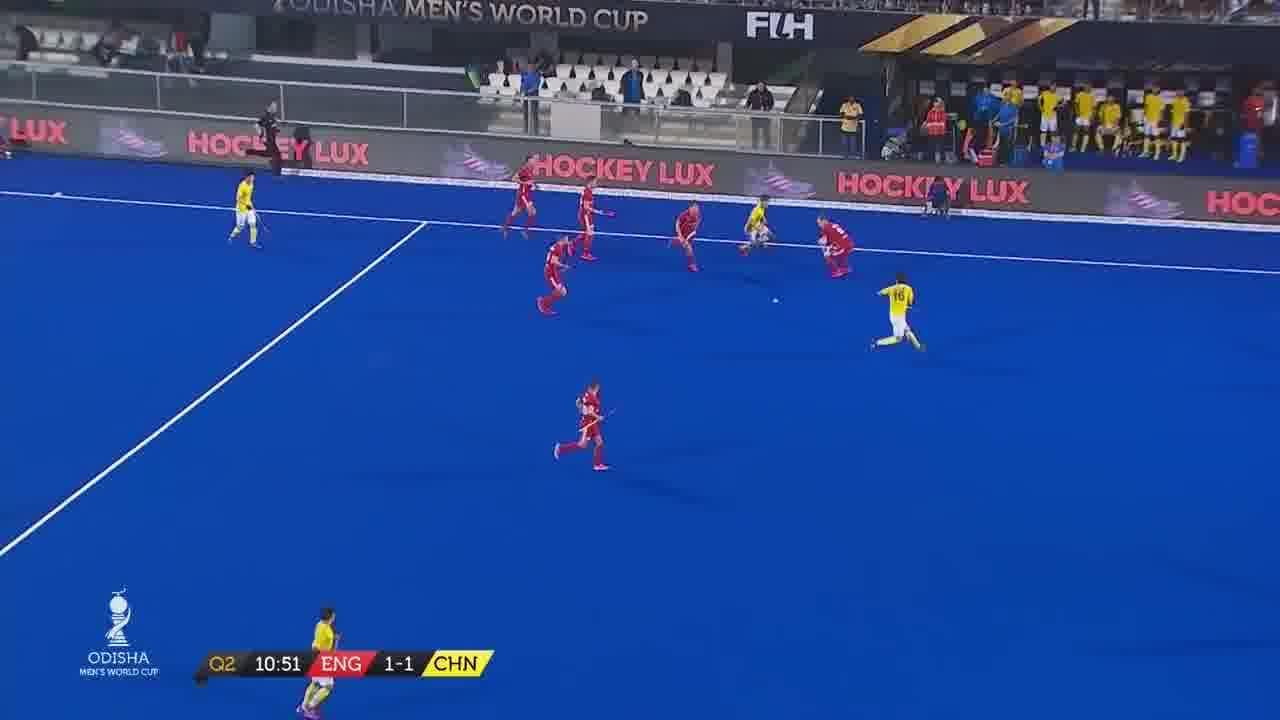ball: (770, 296, 782, 308)
